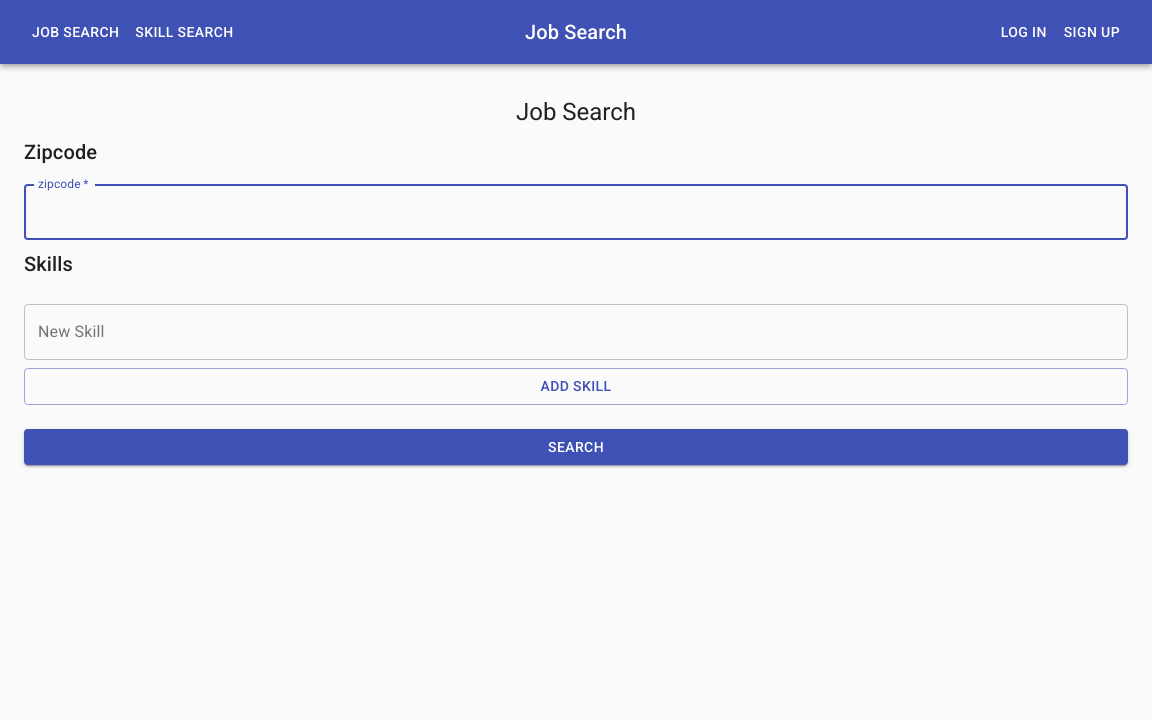
Job Search › Job Results Returned- SUCCESS
Expected: the heading with id "navBarTitle" reads "Job Search", left=525, top=20, right=627, bottom=44
In the field with id "zipcode": (576,212) left=24, top=184, right=1128, bottom=240, type "12345"
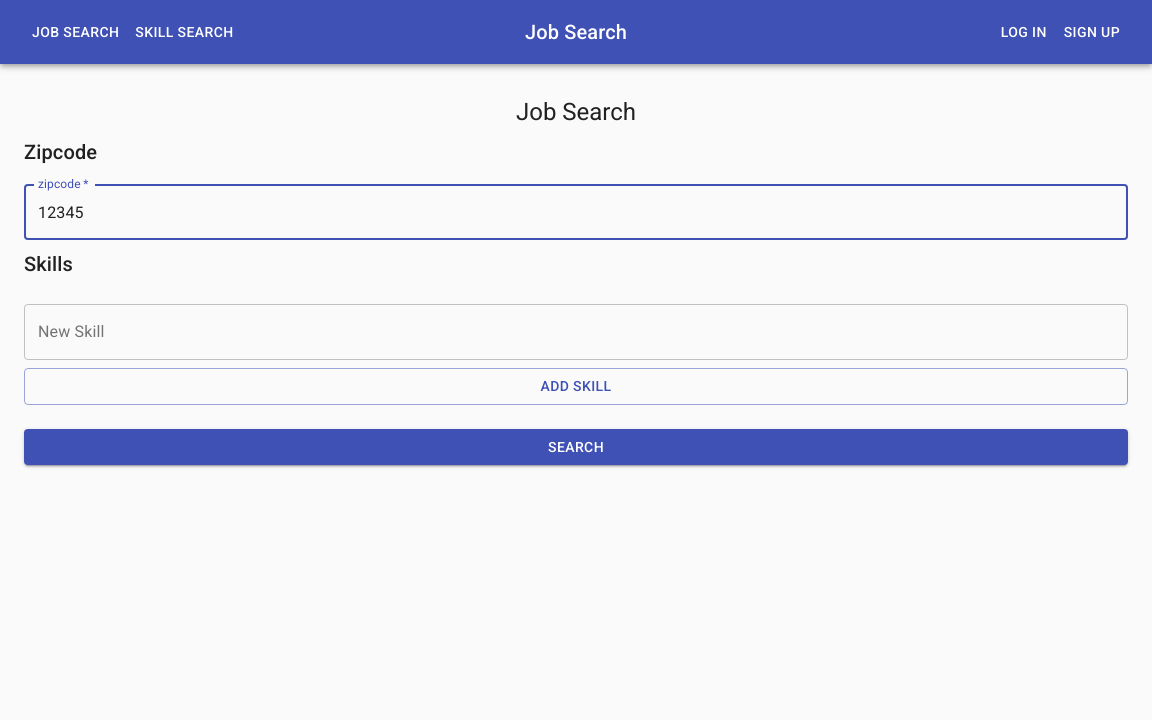
Click the button with id "submit": (576,448) left=24, top=429, right=1128, bottom=466
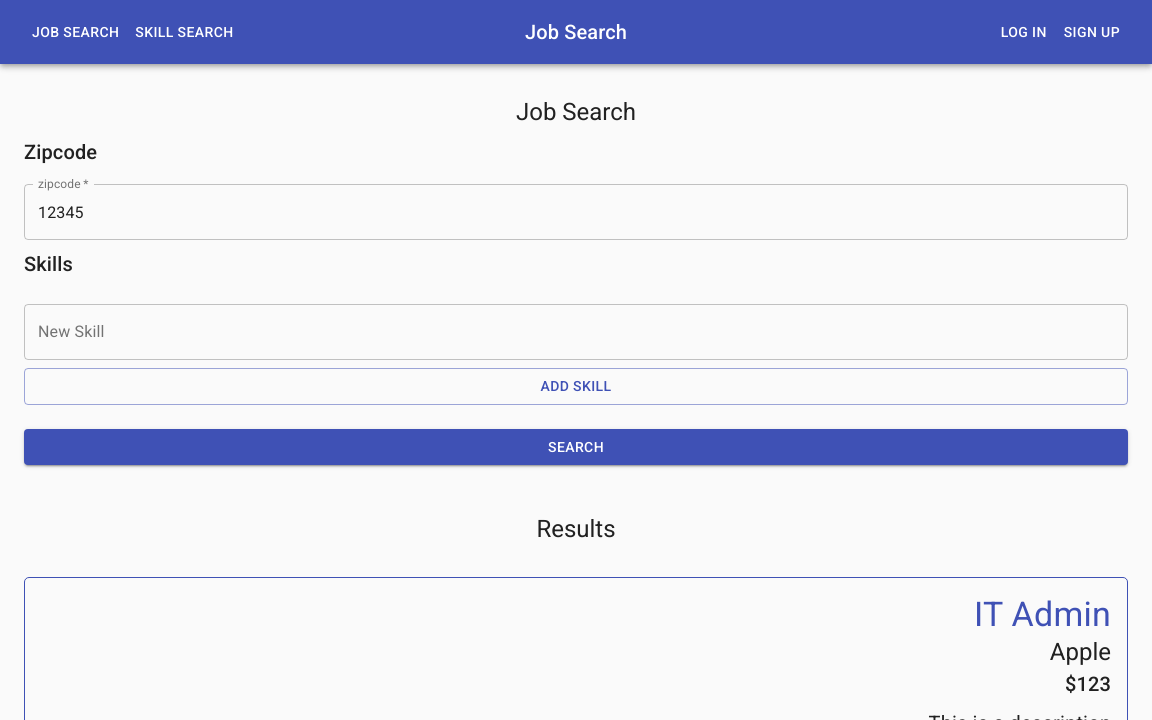
Expected: the link "IT Admin" is shown, left=974, top=594, right=1111, bottom=636
Expected: the button "Apple" is shown, left=24, top=577, right=1128, bottom=719
